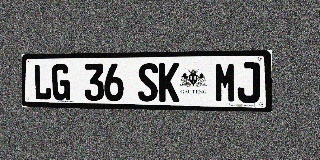3: (85, 64, 104, 101)
6: (104, 63, 124, 101)
G: (52, 64, 70, 101)
J: (237, 62, 260, 103)
K: (159, 63, 179, 102)
L: (33, 64, 52, 100)
M: (214, 62, 237, 103)
S: (138, 63, 158, 102)
